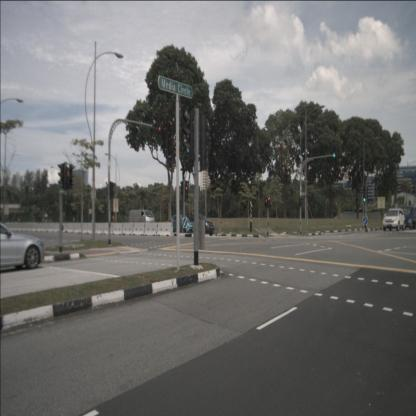vehicle-car: (0, 221, 45, 269), (188, 214, 215, 236), (382, 208, 405, 231), (129, 209, 155, 229), (168, 214, 193, 234), (398, 205, 416, 230)
